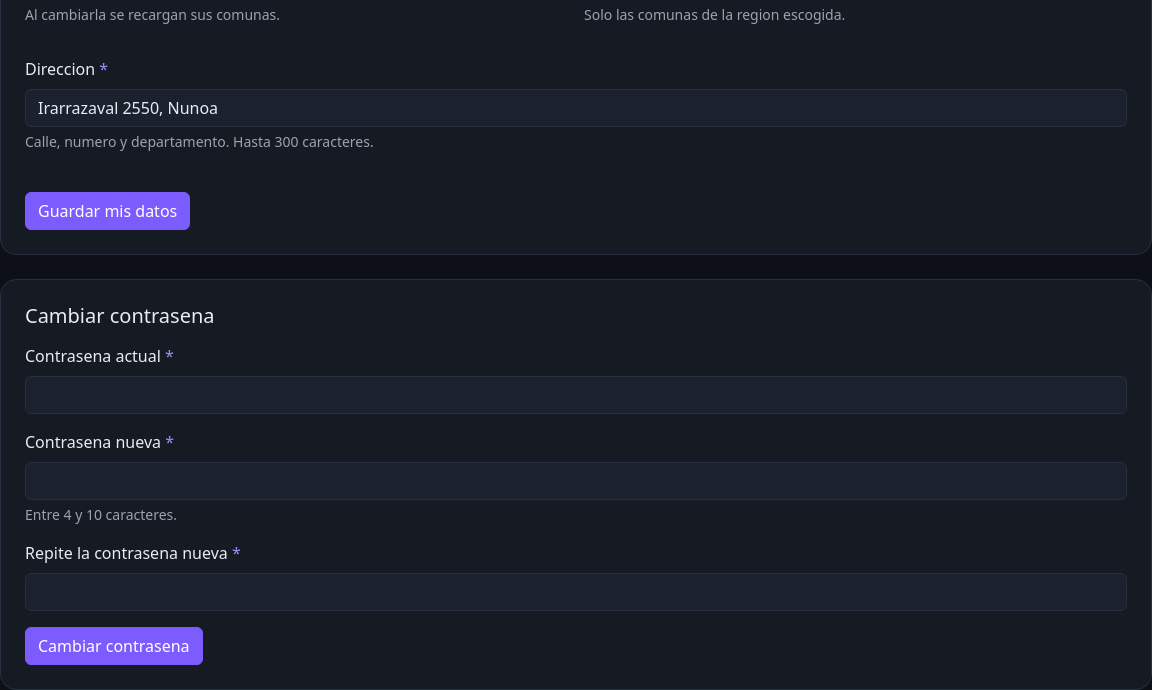
Test: Perfil con una cuenta incompleta › si la cuenta no se puede actualizar al cambiar la contrasena, muestra el motivo
(page scrolled)
Type "cliente123" into the password field labelled "Contrasena actual *" at (576, 395), box left=25, top=376, right=1127, bottom=414
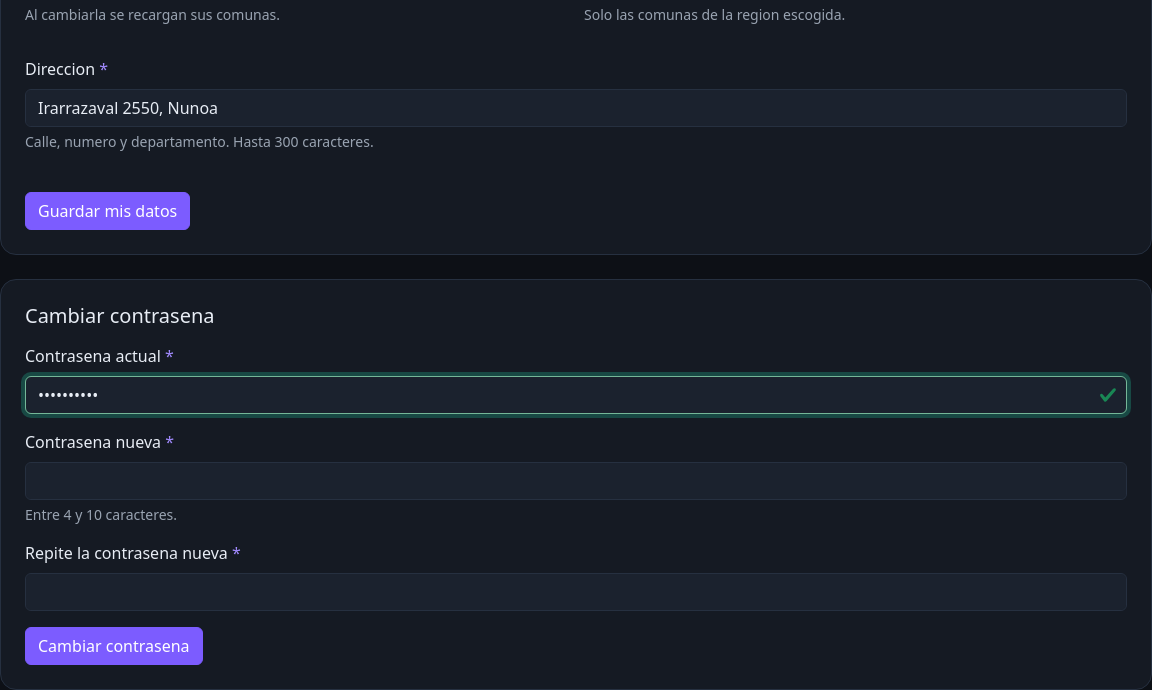
Type "nueva1234" into the password field labelled "Contrasena nueva *" at (576, 481), box left=25, top=462, right=1127, bottom=500
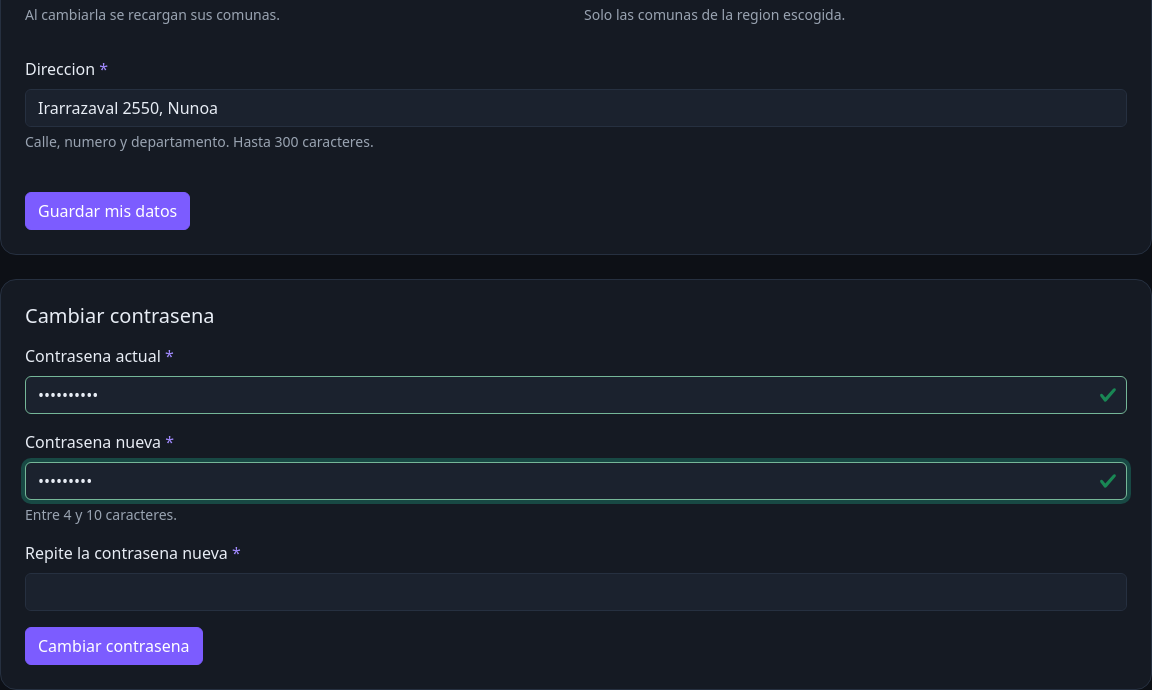
Type "nueva1234" into the password field labelled "Repite la contrasena nueva *" at (576, 592), box left=25, top=573, right=1127, bottom=611
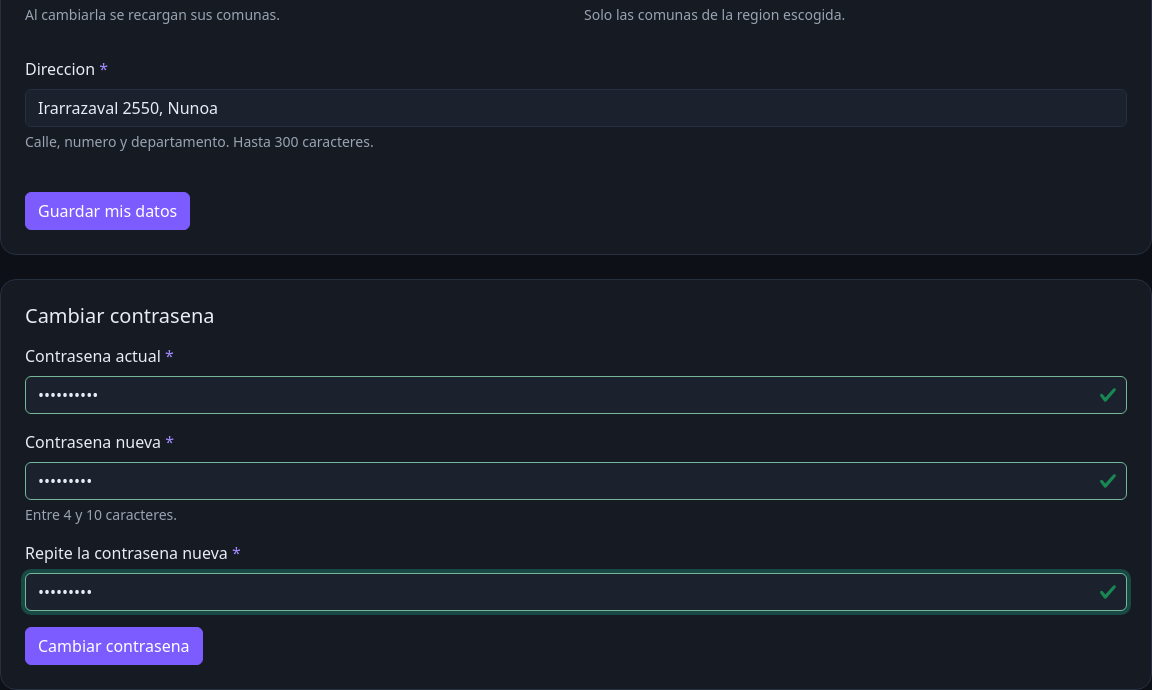
Click the button "Cambiar contrasena" at (114, 646), box left=25, top=627, right=203, bottom=665
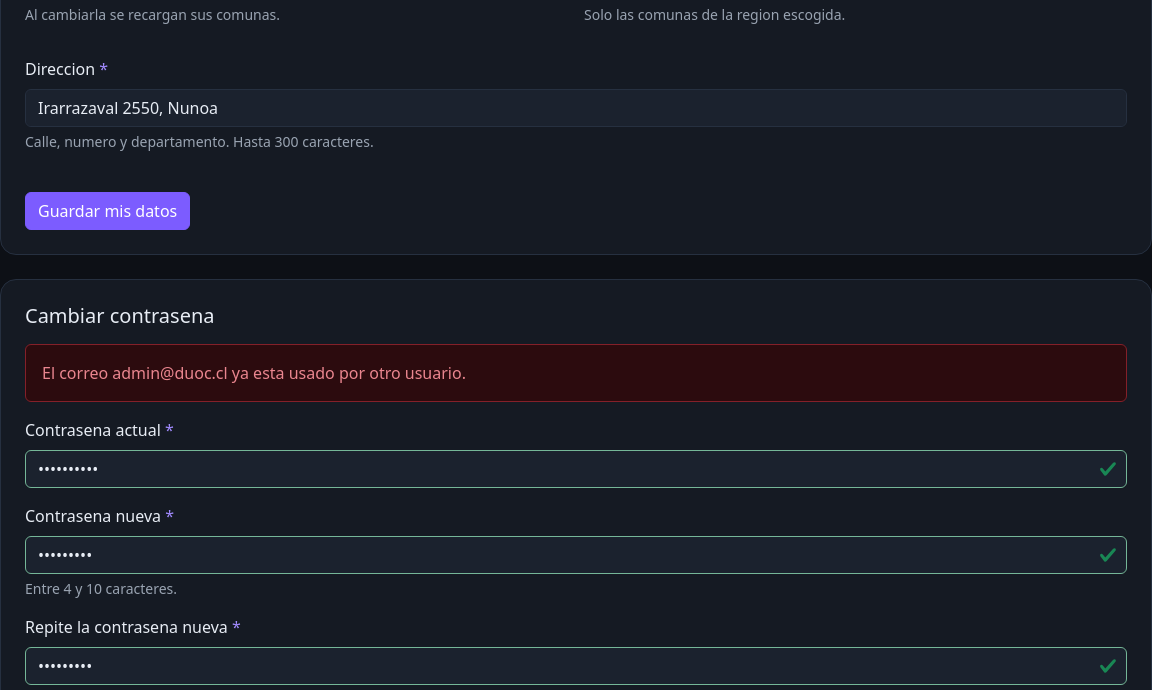
Now the text "El correo admin@duoc.cl ya esta usado por otro usuario." is shown, box left=25, top=344, right=1127, bottom=402
